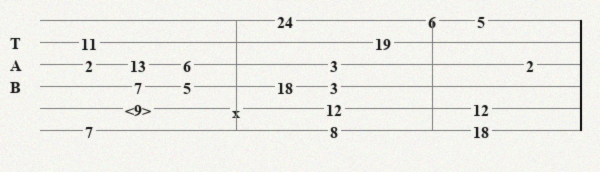11: (81, 35, 101, 50)
12: (326, 101, 346, 116), (473, 101, 493, 116)
13: (130, 57, 150, 72)
18: (277, 79, 297, 94), (473, 123, 493, 138)
19: (375, 35, 395, 50)
2: (85, 57, 97, 72), (526, 57, 538, 72)
24: (277, 13, 297, 28)
3: (330, 57, 342, 72), (330, 79, 342, 94)
5: (183, 79, 195, 94), (477, 13, 489, 28)
6: (183, 57, 195, 72), (428, 13, 440, 28)
7: (85, 123, 97, 138), (134, 79, 146, 94)
8: (330, 123, 342, 138)
harmonic: (125, 101, 155, 116)
x: (232, 103, 244, 114)
